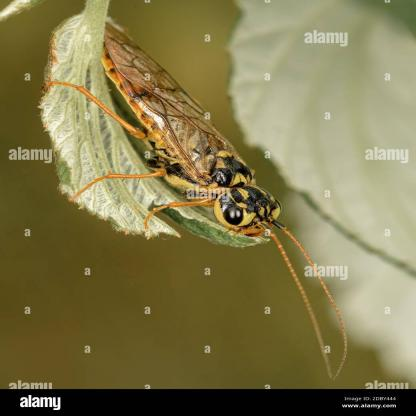sawfly: (53, 15, 354, 360)
